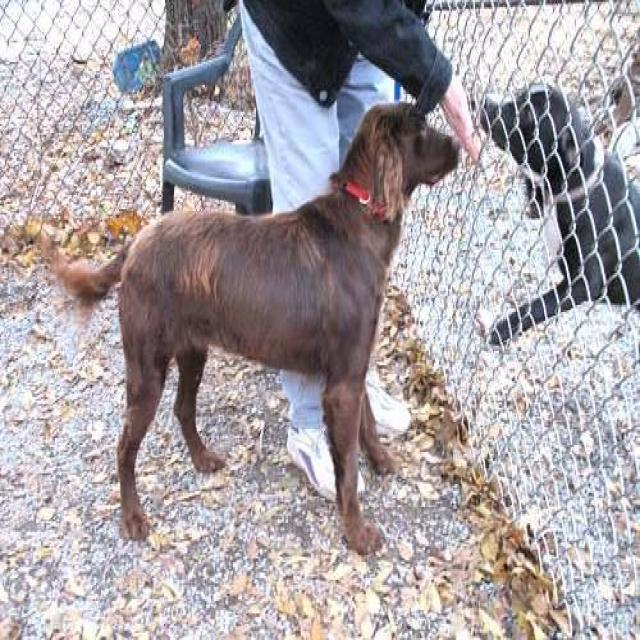dog: (37, 99, 462, 555), (470, 78, 638, 347)
